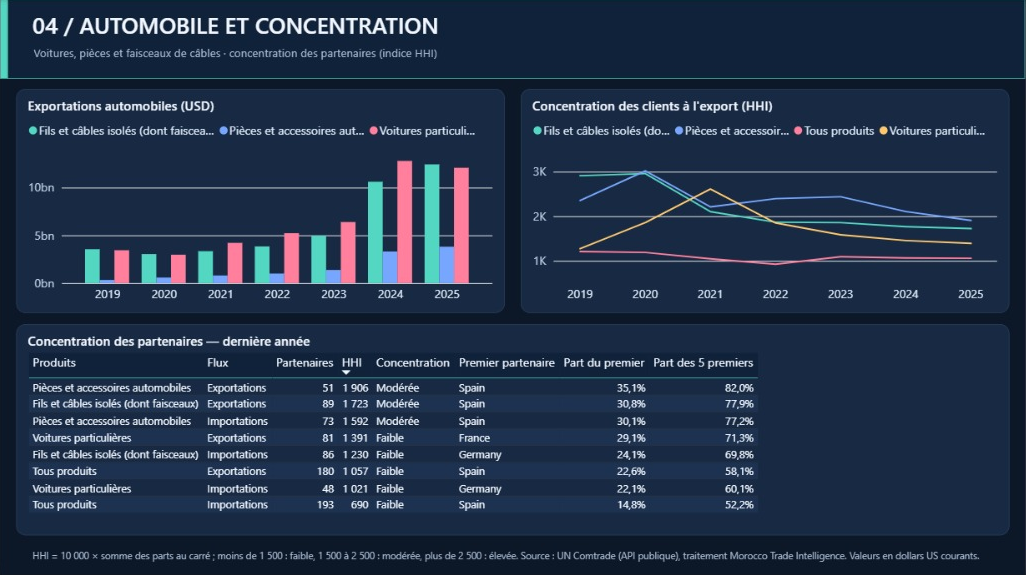

This screenshot's page, from the dashboard's own definition file:
{"tool":"powerbi","page":{"name":"Automobile et concentration","canvas":[1280,720],"ordinal":3},"visuals":[{"type":"shape","box":[0,0,1280,100],"z":100},{"type":"shape","box":[0,0,10,100],"z":200},{"type":"textbox","box":[40,14,1100,44],"z":300},{"type":"textbox","box":[42,58,1180,30],"z":400},{"type":"textbox","box":[40,684,1200,28],"z":500},{"type":"clusteredColumnChart","title":"Exportations automobiles (USD)","fields":{"Category":["dim_year.year"],"Y":["fct_trade.Exportations automobiles (USD)"],"Series":["dim_product.focus_label_fr"]},"box":[20,112,610,280],"z":600},{"type":"lineChart","title":"Concentration des clients à l''export (HHI)","fields":{"Category":["mart_concentration.year"],"Y":["mart_concentration.HHI exportations"],"Series":["mart_concentration.scope_label"]},"box":[650,112,610,280],"z":700},{"type":"tableEx","title":"Concentration des partenaires — dernière année","fields":{"Values":["mart_concentration_latest.scope_label","mart_concentration_latest.flow_label","mart_concentration_latest.partner_count","mart_concentration_latest.hhi","mart_concentration_latest.concentration_label","mart_concentration_latest.top_partner_name","mart_concentration_latest.top_partner_share","mart_concentration_latest.top5_share"]},"box":[20,406,1240,264],"z":800}]}

Visuals, with their boxes in screenshot pixels (x1, y1, x2, y2), scaled from the page's 1280x720 canvas onto the 1026x575 screenshot:
shape: select_region(0, 0, 1025, 80)
shape: select_region(0, 0, 8, 80)
textbox: select_region(32, 11, 914, 46)
textbox: select_region(34, 46, 980, 70)
textbox: select_region(32, 546, 994, 569)
"Exportations automobiles (USD)" clusteredColumnChart: select_region(16, 89, 505, 313)
"Concentration des clients à l''export (HHI)" lineChart: select_region(521, 89, 1010, 313)
"Concentration des partenaires — dernière année" tableEx: select_region(16, 324, 1010, 535)
